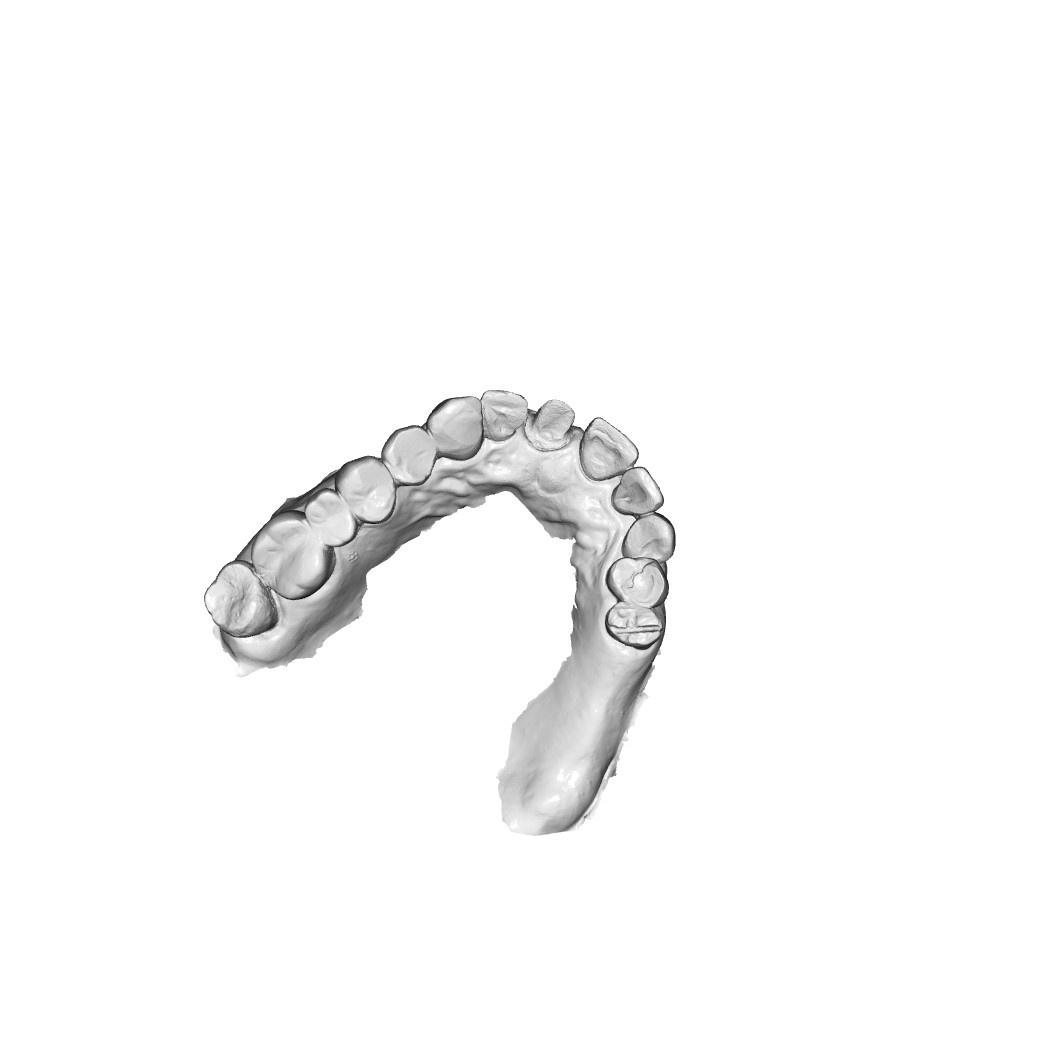canine: (428, 396, 483, 464), (629, 514, 677, 566)
incisor: (579, 416, 637, 479), (482, 390, 524, 439), (533, 396, 574, 446), (616, 468, 659, 515)
molar: (252, 514, 333, 603), (203, 565, 268, 641)
premolar: (340, 456, 391, 520), (607, 598, 667, 649), (610, 557, 667, 607), (386, 422, 430, 481), (312, 491, 355, 550)
